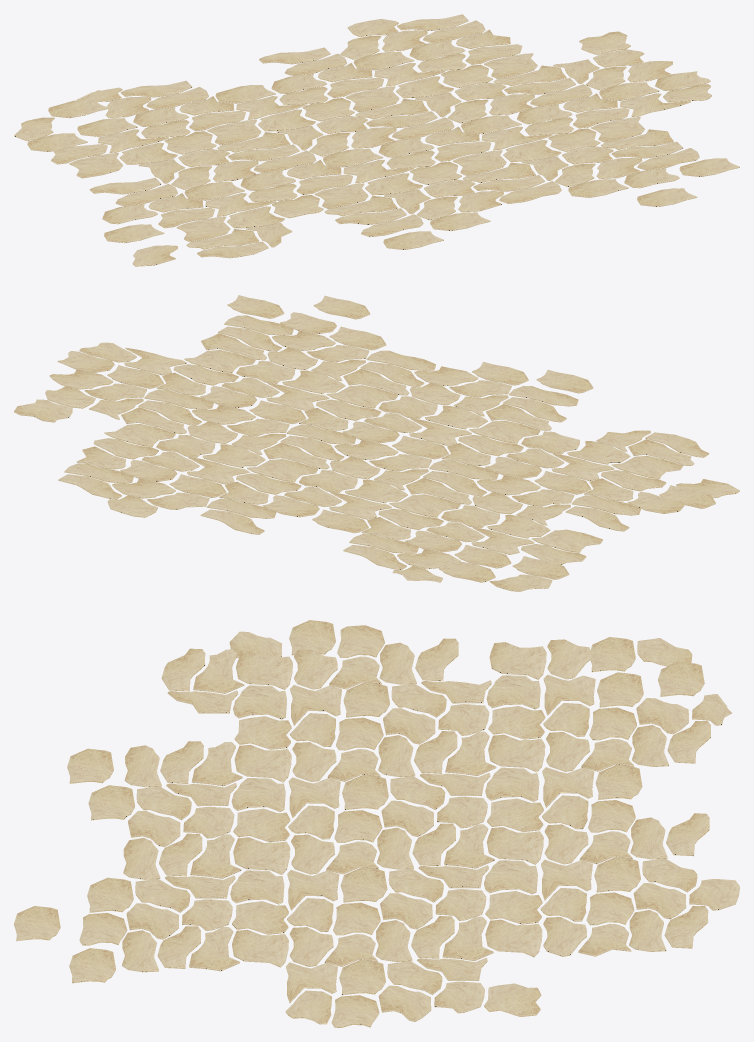
Rendered from SueloPiedraZona2_V2.fbx.
The picture shows the model from 3 angles, top to bottom: view 1: azimuth 30°, elevation 25°; view 2: azimuth 150°, elevation 25°; view 3: azimuth 270°, elevation 25°; orthographic projection. The views are drawn at different scales.
Visible parts, largest first — view 1: Cube_025; view 2: Cube_025; view 3: Cube_025.
Part boxes in pixels (x1,y1,x2,y2): Cube_025: [14, 14, 739, 266]; Cube_025: [14, 295, 739, 591]; Cube_025: [14, 620, 739, 1027].
Size of the model in its own units: 9685 by 246 by 7223.
